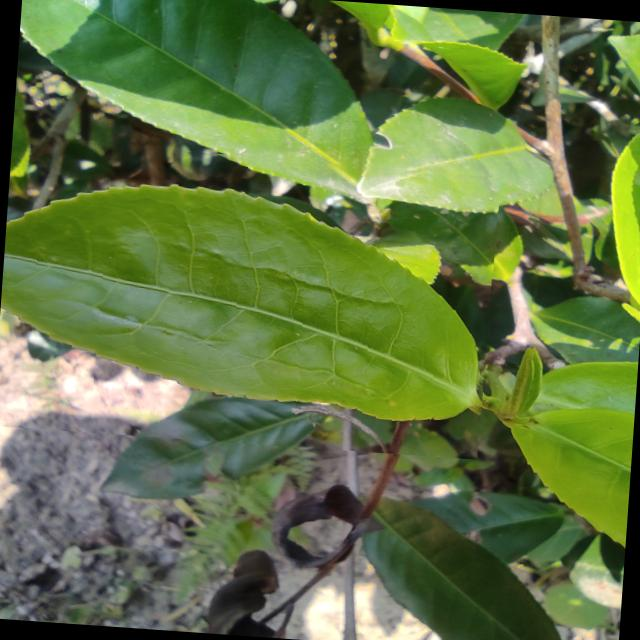Category C(4-7 days): (0, 136, 501, 459)
